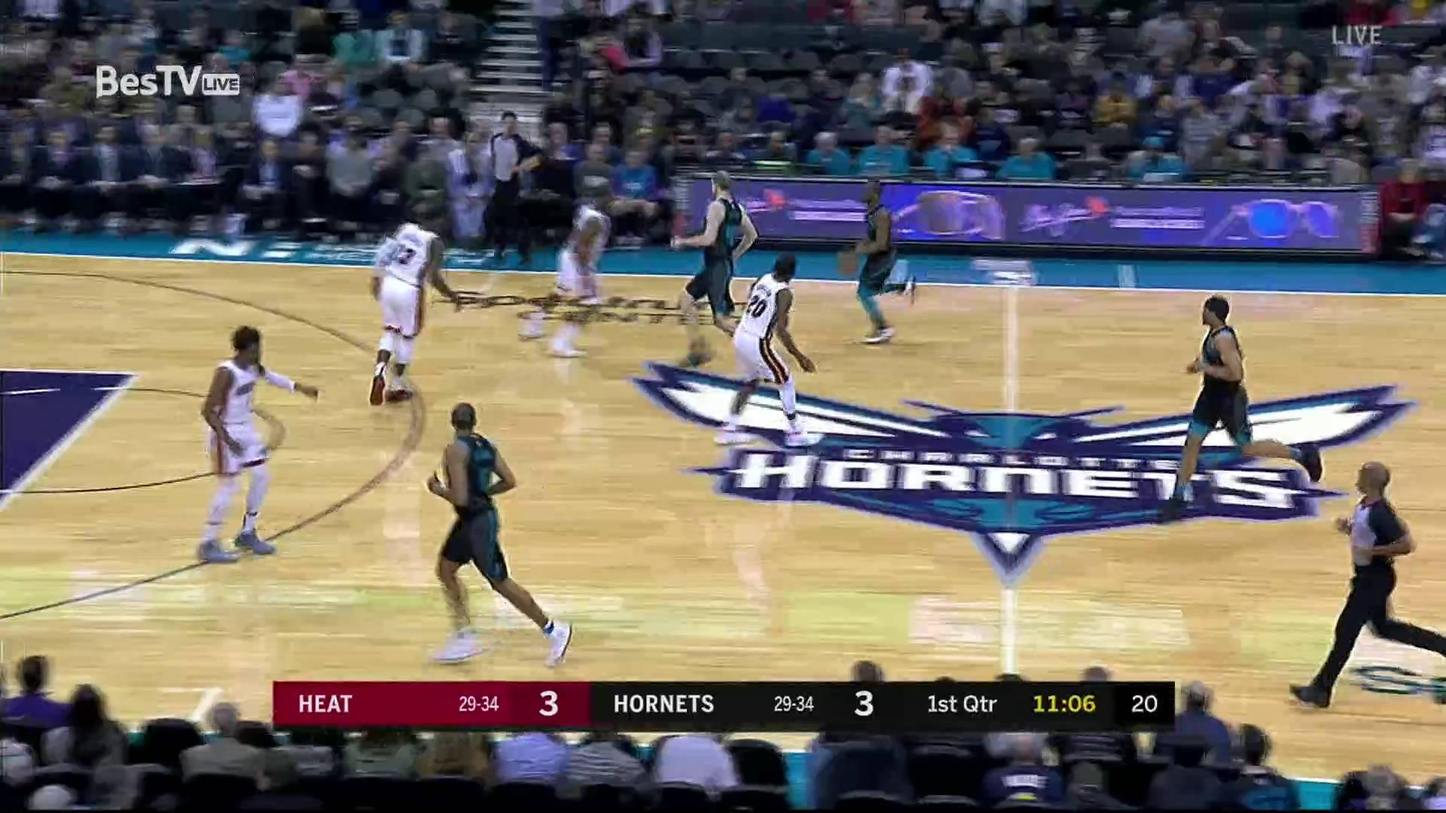basketball: (834, 251, 859, 278)
